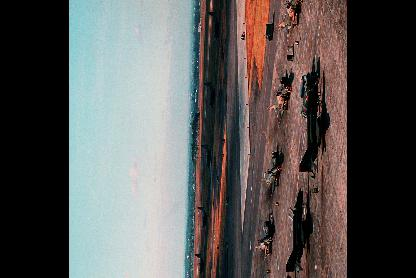Be200: (207, 9, 218, 39), (197, 202, 207, 230), (194, 248, 204, 274), (200, 141, 210, 167), (204, 80, 214, 106)
F35: (299, 81, 325, 173), (286, 185, 308, 271), (275, 0, 303, 38), (267, 82, 291, 122), (259, 158, 281, 196), (253, 226, 273, 262)
